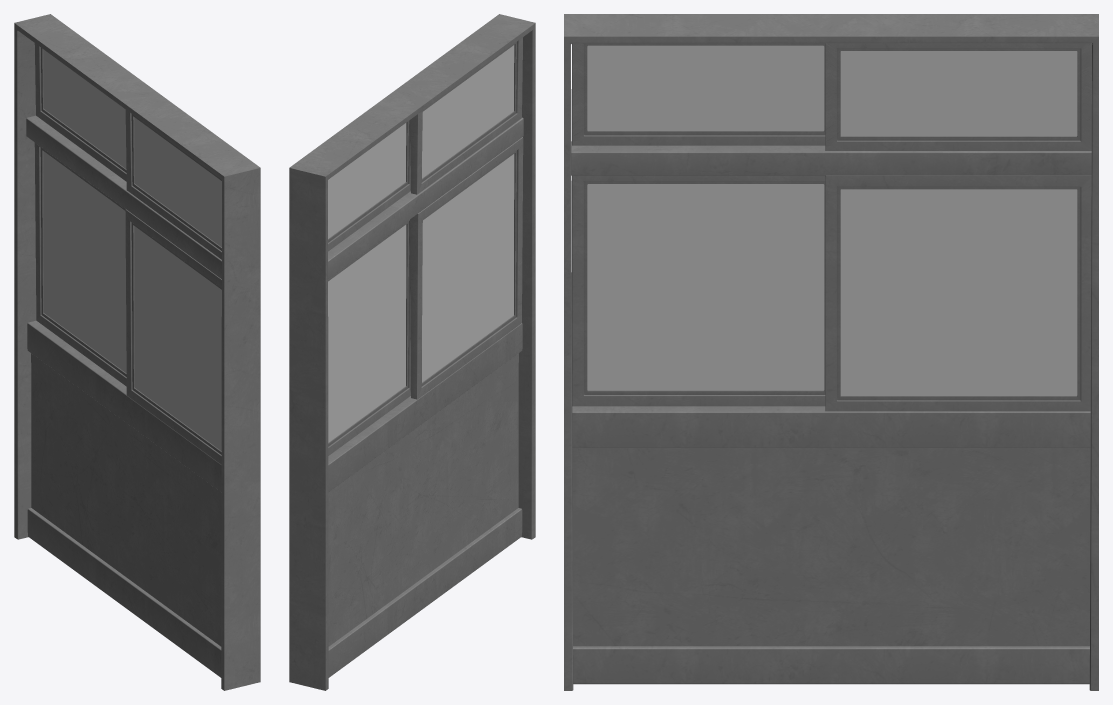
Rendered from SM_Partition_02.fbx.
3 views of the same model, side by side, from view 1: azimuth 30°, elevation 25°; view 2: azimuth 150°, elevation 25°; view 3: azimuth 270°, elevation 25° (orthographic). The views are drawn at different scales.
Visible parts, largest first — view 1: SM_Partition_02_LOD0; view 2: SM_Partition_02_LOD0; view 3: SM_Partition_02_LOD0.
Part boxes in pixels (bbox=[...]): SM_Partition_02_LOD0: bbox=[14, 14, 260, 690]; SM_Partition_02_LOD0: bbox=[289, 14, 535, 690]; SM_Partition_02_LOD0: bbox=[564, 14, 1098, 690].
Size of the model in its own units: 20 by 200 by 270.
